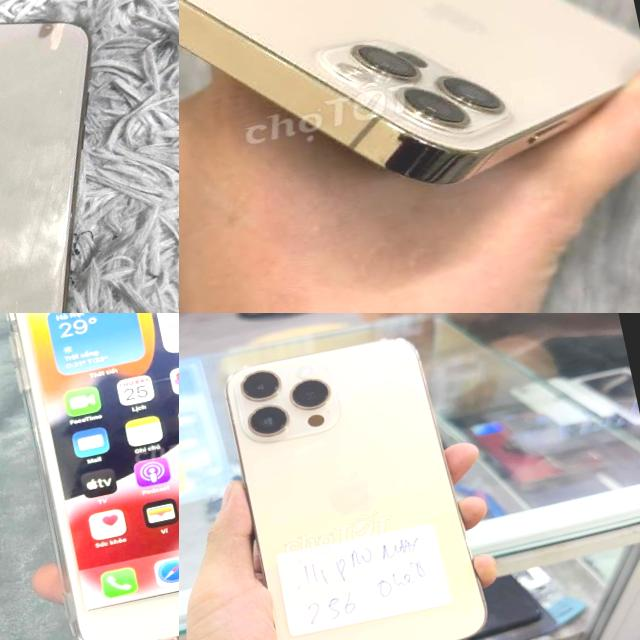gen_12_13: (179, 0, 640, 183)
gen_14: (214, 317, 507, 640)
gen_7_8: (5, 313, 179, 640)
gen_x_xs: (0, 20, 88, 313)
